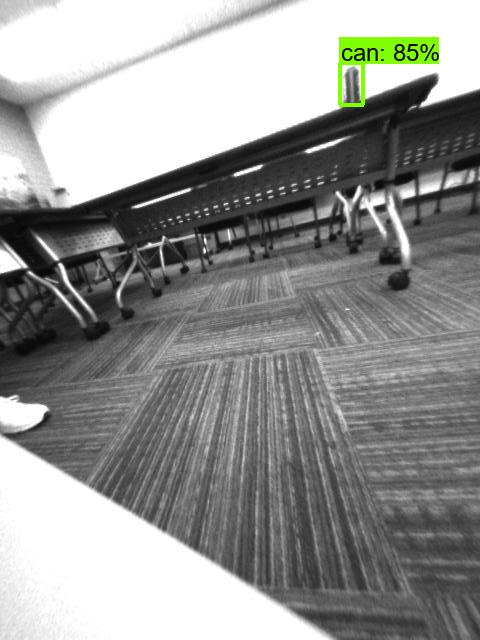can: (341, 61, 364, 110)
